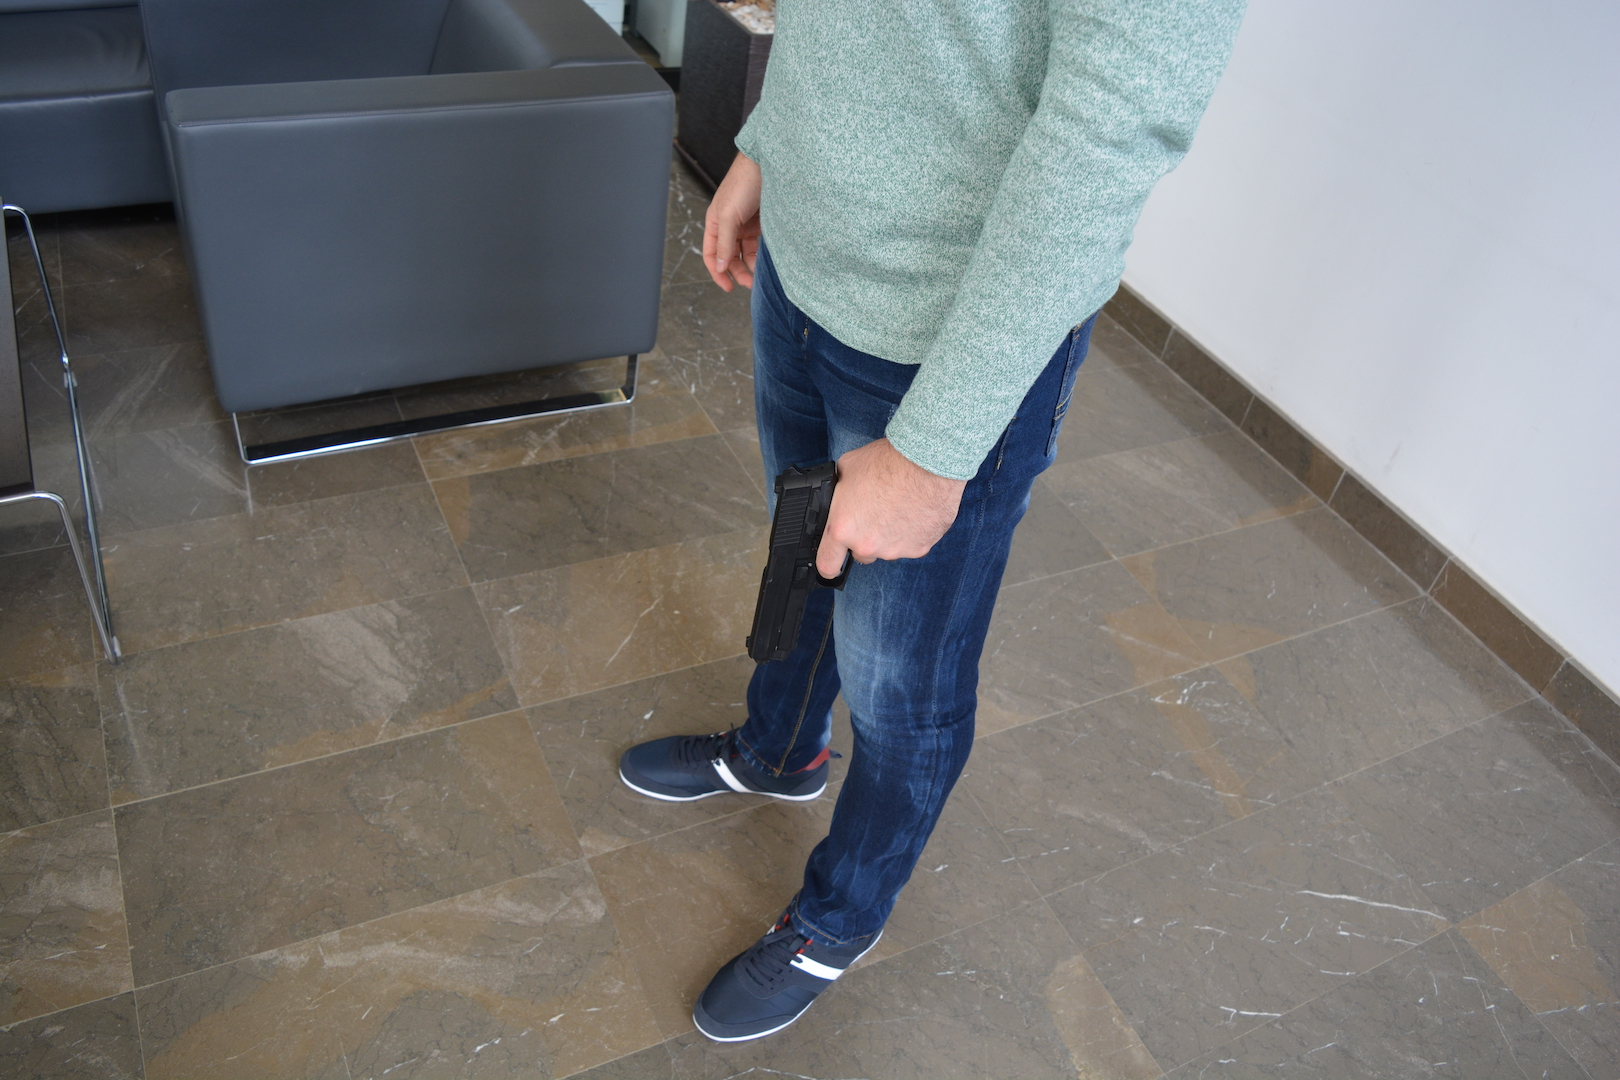pistol: (746, 459, 857, 664)
